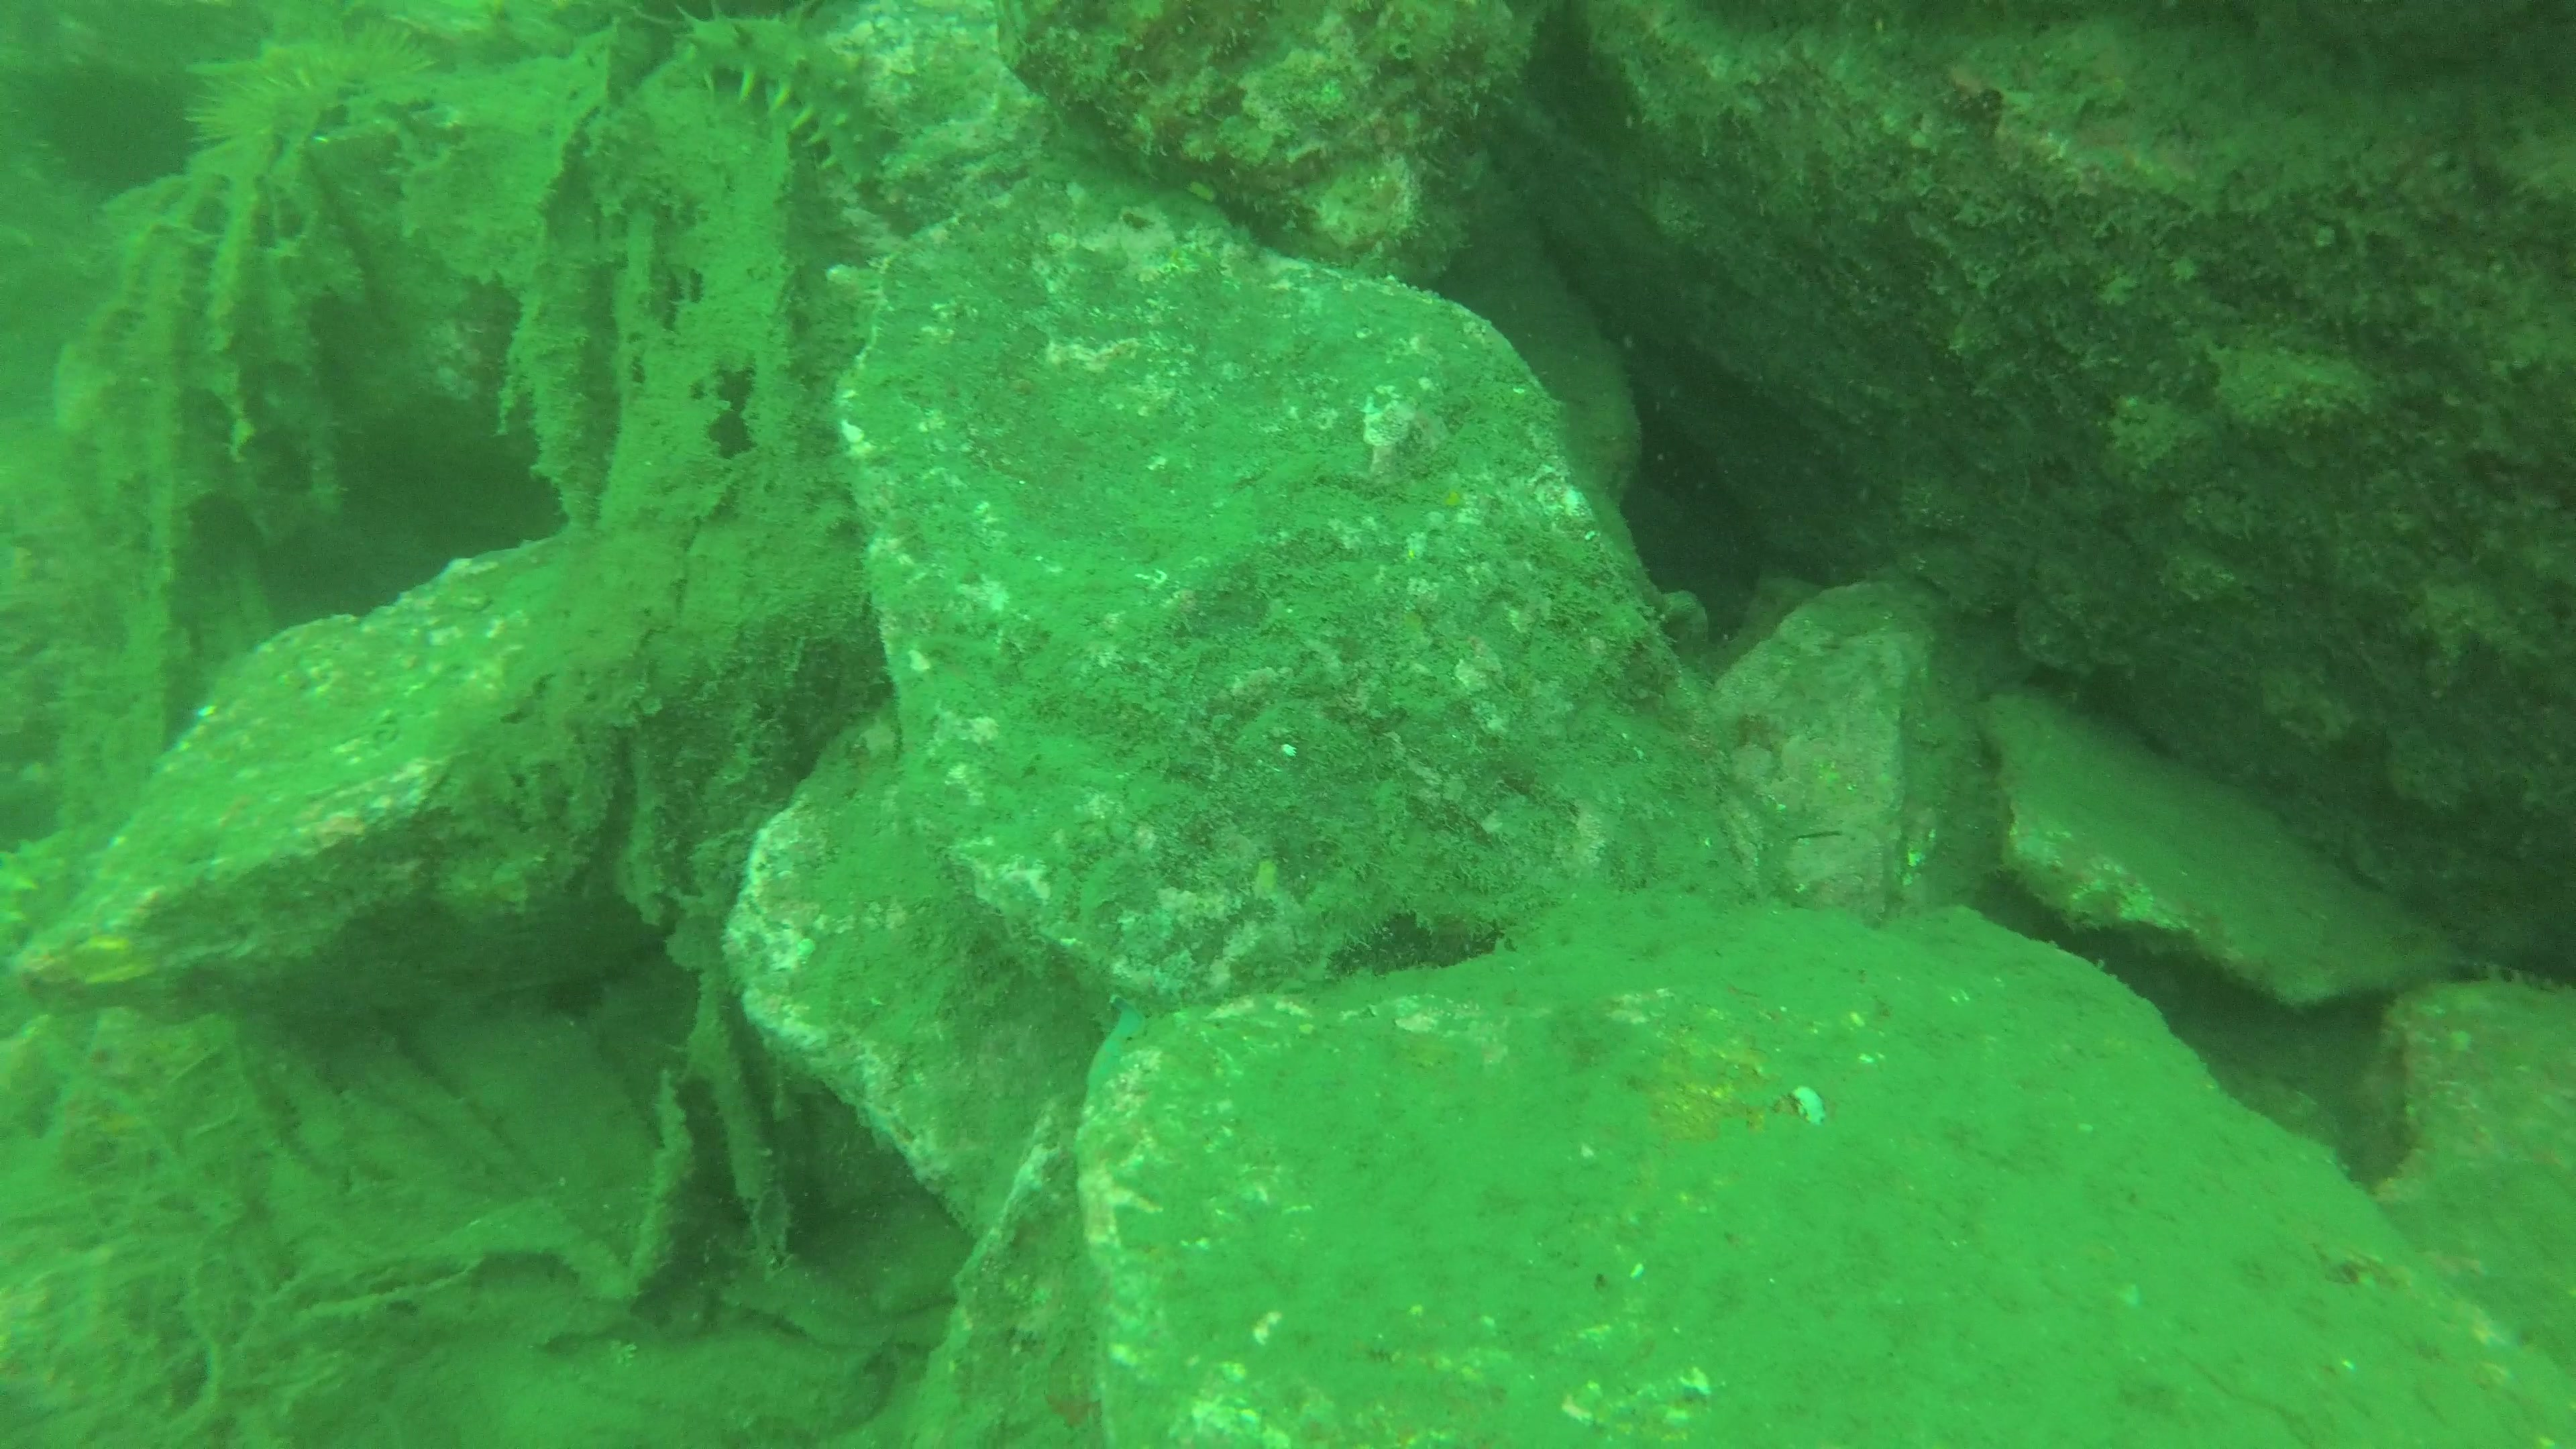echinus: (180, 19, 460, 205)
holothurian: (663, 9, 899, 188)
